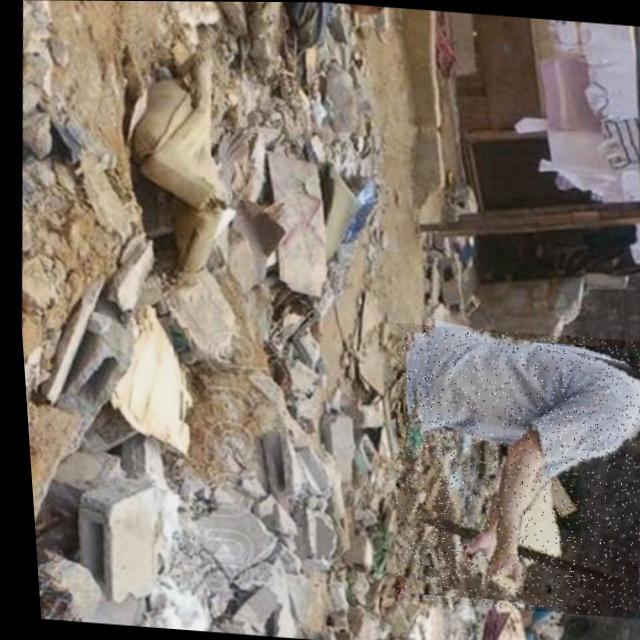Person in Rubble: (371, 322, 640, 618)
